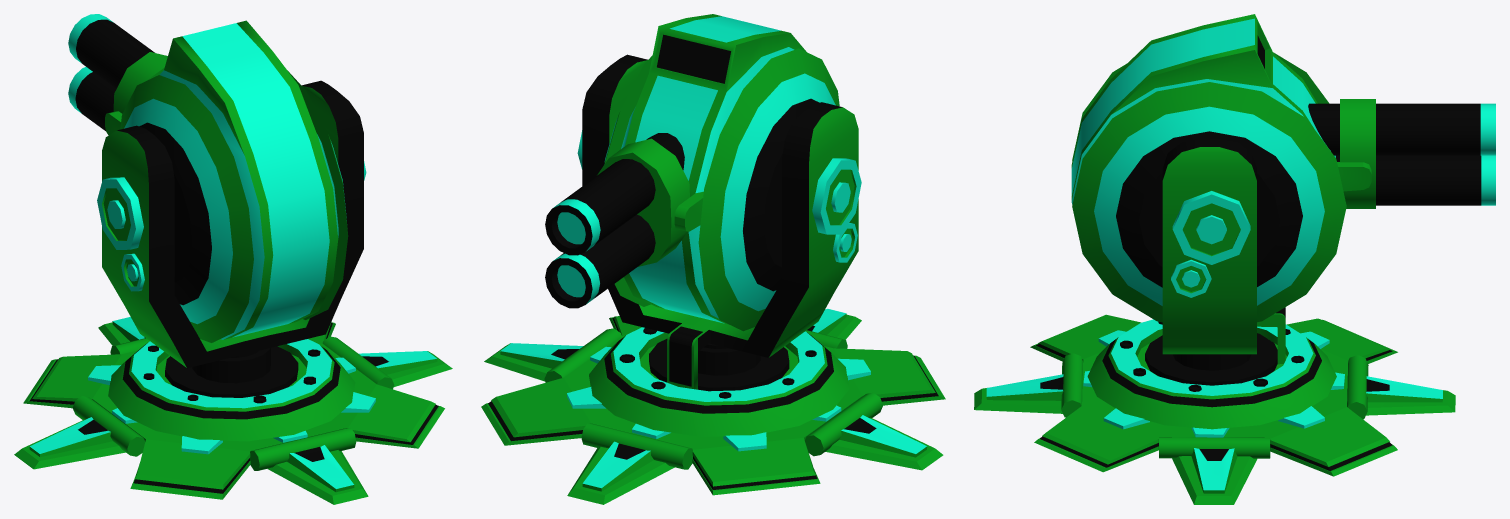
Rendered from Turret_4.fbx.
The picture shows the model from 3 angles, left to right: view 1: azimuth 30°, elevation 25°; view 2: azimuth 150°, elevation 25°; view 3: azimuth 270°, elevation 25°; orthographic projection. The views are drawn at different scales.
Visible parts, largest first — view 1: Pedestal, Head, Head_VerticalRotator, Pedestal_Handle, Barrel_Top, Barrel_Bottom, Barrel_Holder; view 2: Pedestal, Head, Head_VerticalRotator, Barrel_Top, Barrel_Bottom, Barrel_Holder, Pedestal_Handle; view 3: Head, Pedestal, Head_VerticalRotator, Barrel_Top, Barrel_Bottom, Pedestal_Handle, Barrel_Holder.
Boxes of the visible parts, x1,y1,x2,y2 form: Pedestal: [14, 317, 452, 504]; Head: [97, 70, 366, 368]; Head_VerticalRotator: [105, 20, 338, 339]; Pedestal_Handle: [165, 346, 298, 397]; Barrel_Top: [68, 14, 154, 88]; Barrel_Bottom: [68, 67, 116, 130]; Barrel_Holder: [113, 52, 167, 113]; Pedestal: [481, 308, 945, 504]; Head: [577, 48, 861, 389]; Head_VerticalRotator: [621, 14, 806, 324]; Barrel_Top: [545, 133, 684, 255]; Barrel_Bottom: [545, 214, 655, 308]; Barrel_Holder: [597, 138, 689, 266]; Pedestal_Handle: [649, 339, 789, 391]; Head: [1072, 52, 1346, 364]; Pedestal: [974, 314, 1455, 504]; Head_VerticalRotator: [1071, 14, 1371, 204]; Barrel_Top: [1308, 103, 1495, 155]; Barrel_Bottom: [1336, 155, 1495, 205]; Pedestal_Handle: [1145, 333, 1277, 385]; Barrel_Holder: [1340, 99, 1375, 208].
Bounding box in the file's own units: 3.89 × 4.2 × 3.28.
